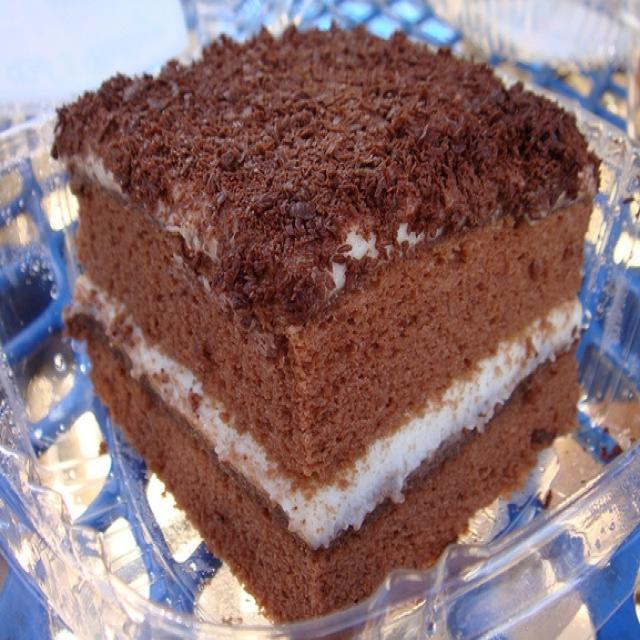蛋糕甜品: (31, 7, 606, 621)
